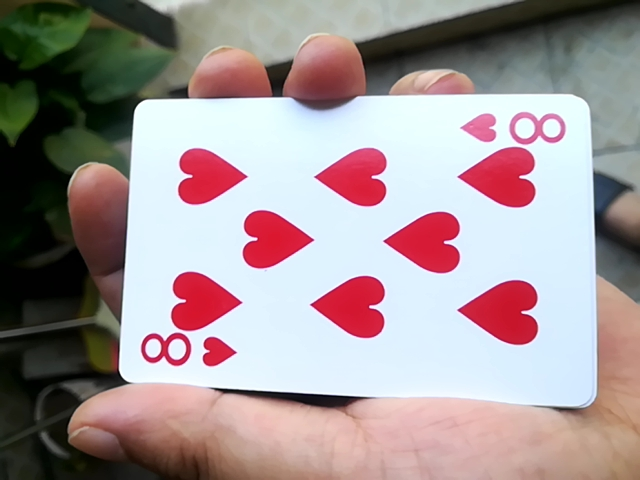hx 8: (117, 86, 592, 404)
